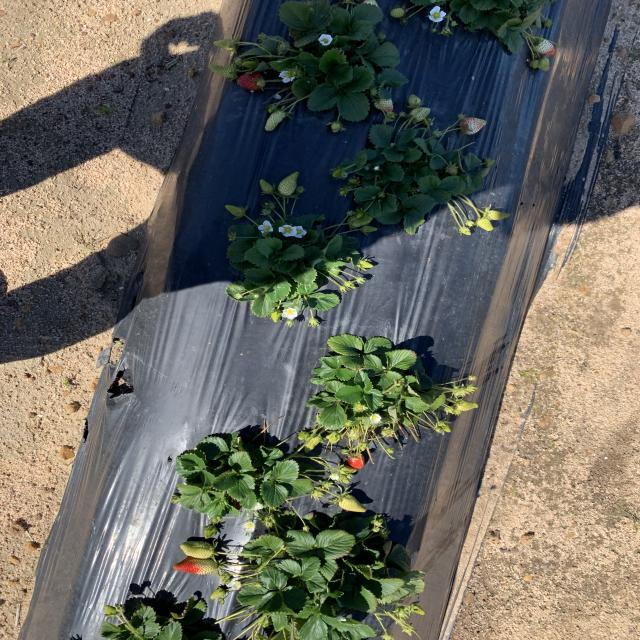unripe: (174, 554, 218, 574), (236, 70, 266, 92), (347, 453, 365, 468)
